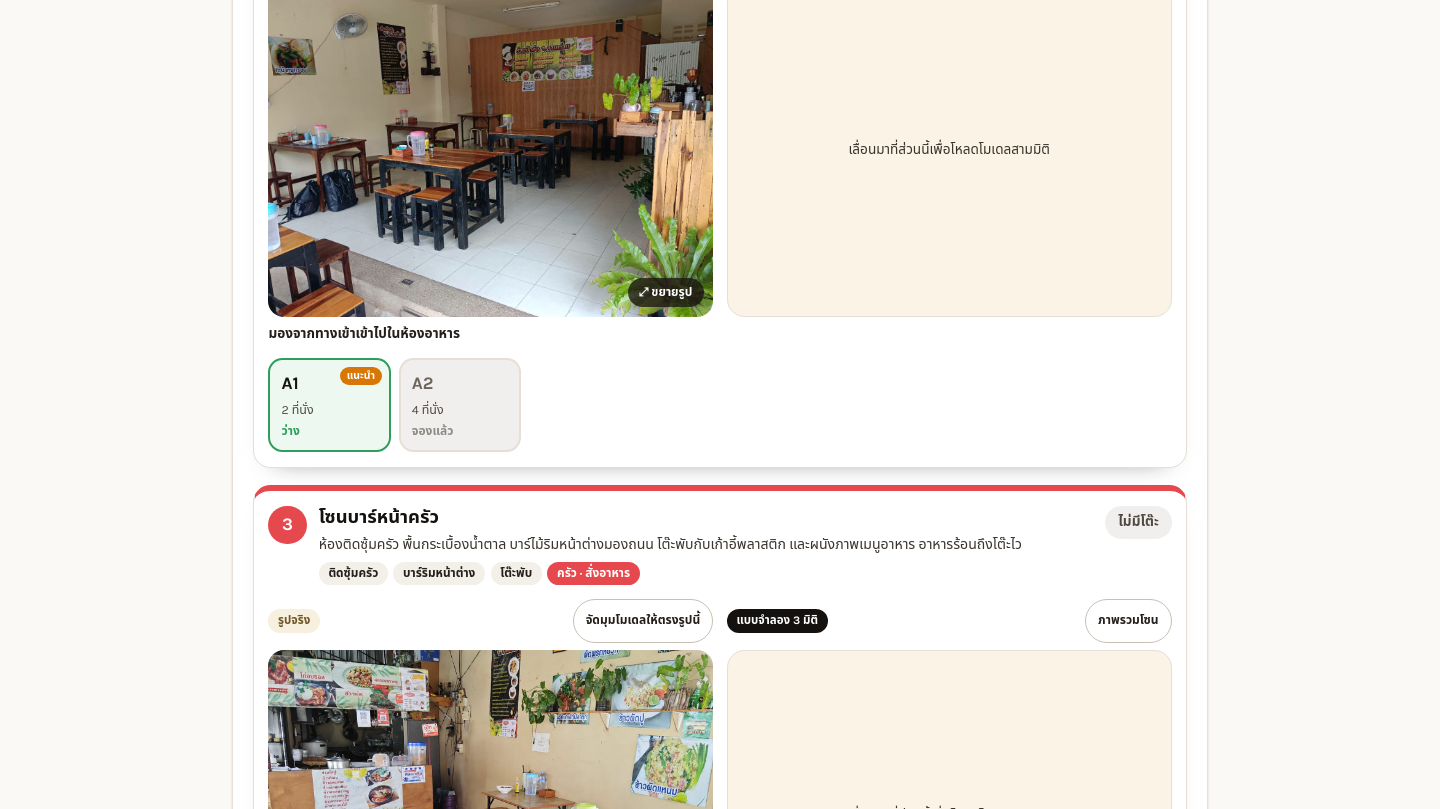
Test: หน้าจองโต๊ะของลูกค้า (3 ขั้นตอน) › ปุ่มไปยืนยันบนแถบล่างแสดงเมื่อเลือกโต๊ะ
The image size is (1440, 809).
(page scrolled)
Expected: the button "ไปยืนยัน" is not shown
What coordinates should you click on to do the following:
click the button with aria-label "โต๊ะ A1 "
I would click on:
 (330, 405)
Its box is [268,358,391,452].
(page scrolled)
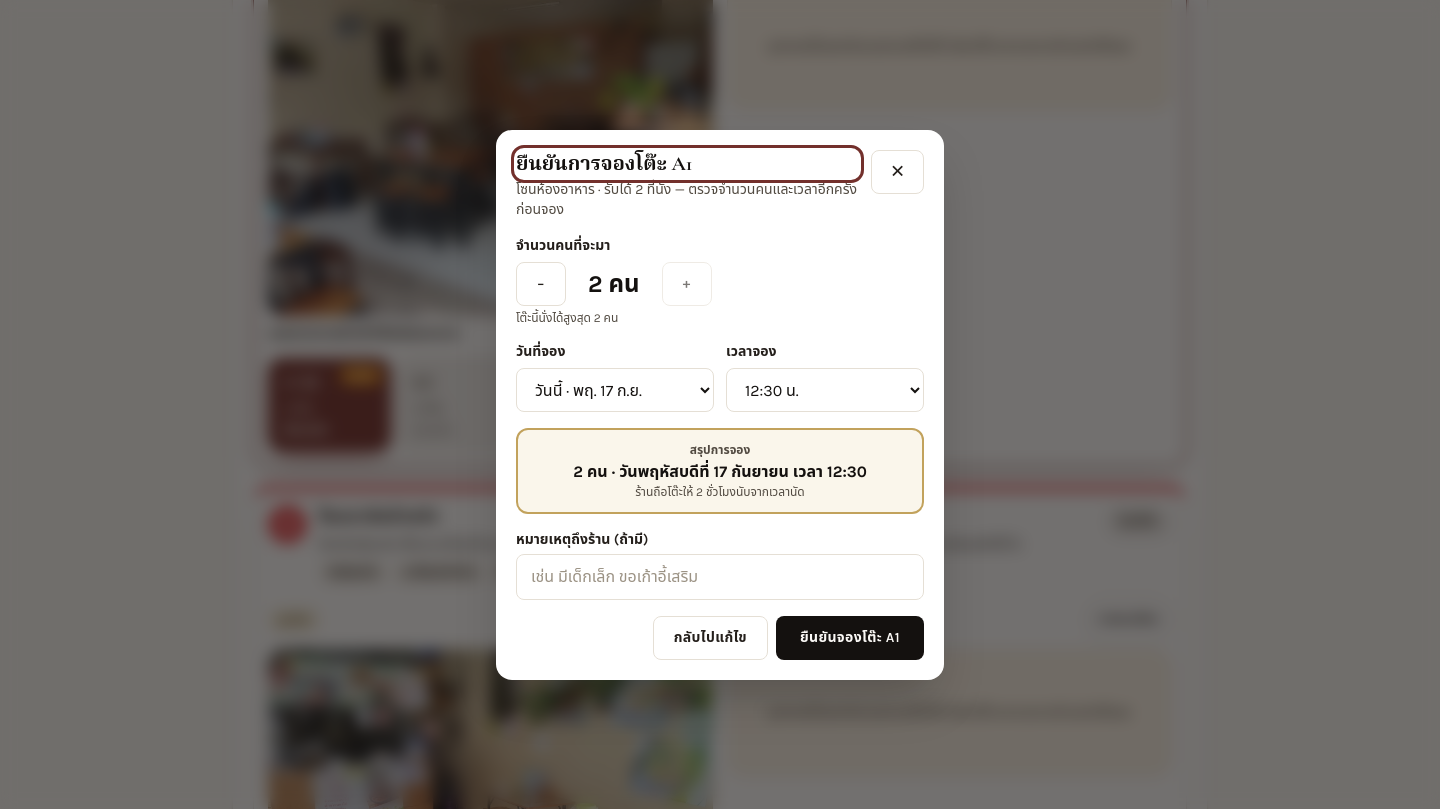
Expected: the button "ไปยืนยัน" is not shown
What coordinates should you click on to do the following:
click the button named "ปิดหน้าต่างยืนยัน"
I would click on:
 (898, 172)
Its box is [871,150,924,194].
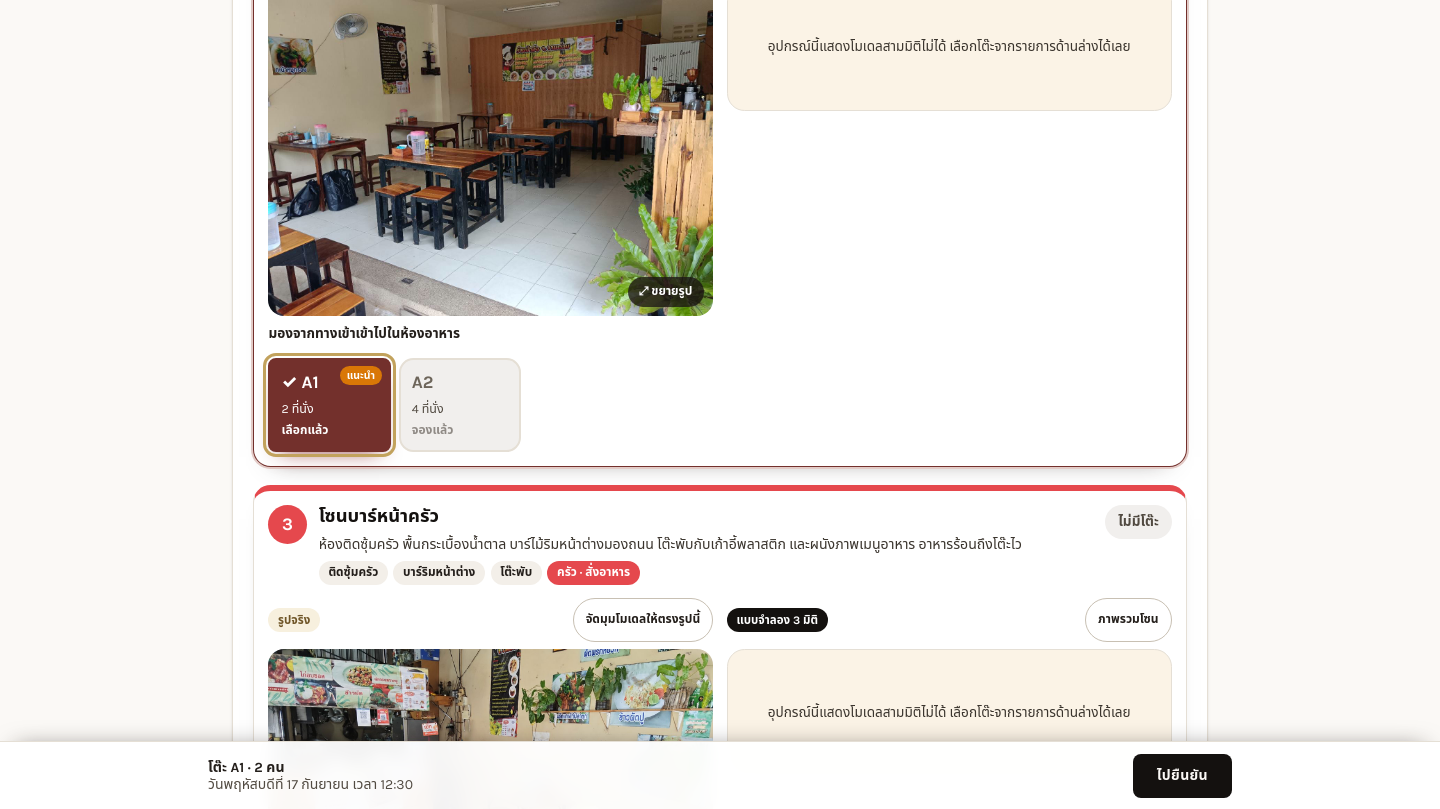
What coordinates should you click on to do the following:
click the button "ไปยืนยัน"
I would click on:
 (1182, 776)
Its box is [1133,754,1232,798].
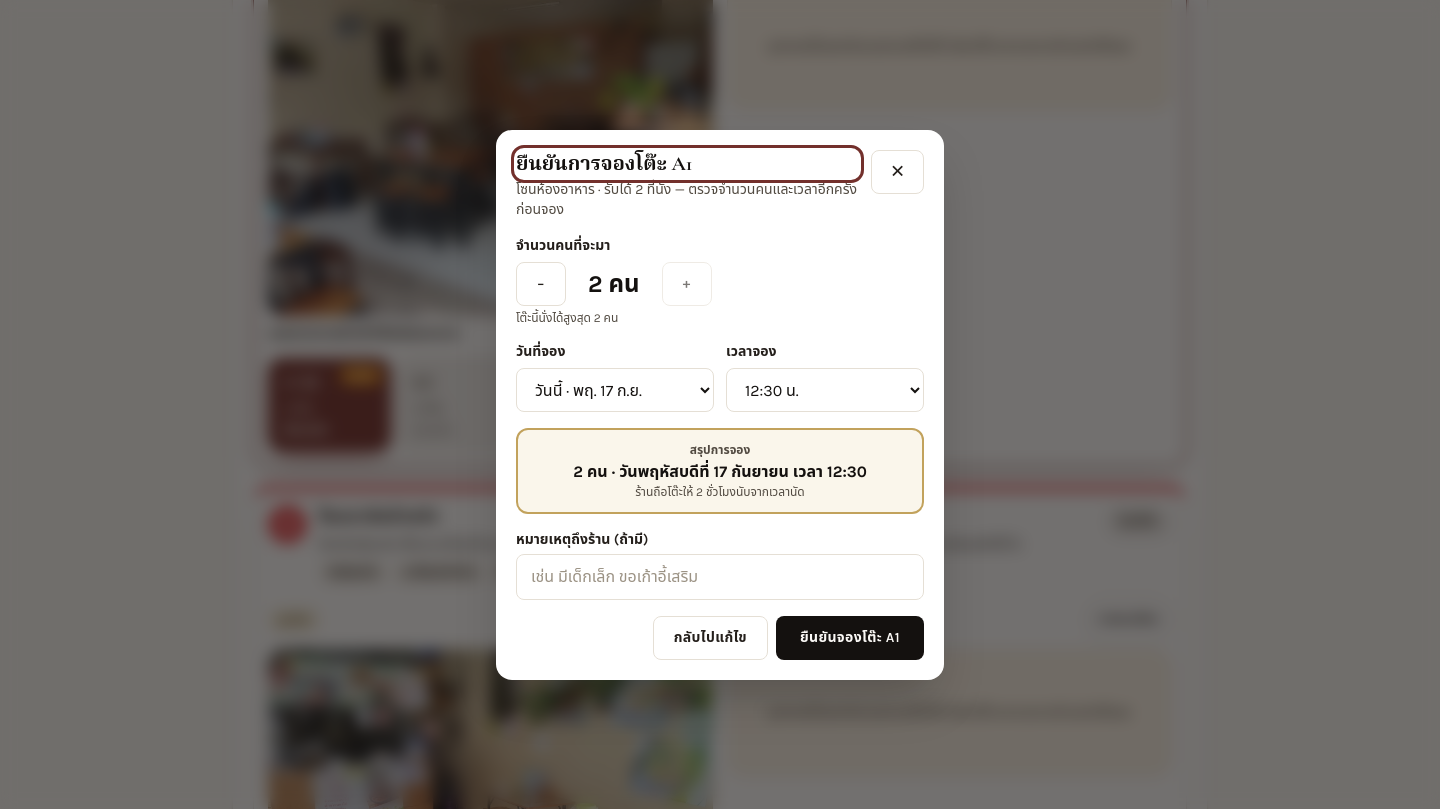
Expected: the dialog "ยืนยันการจองโต๊ะ A1" is shown, [496,130,944,680]
